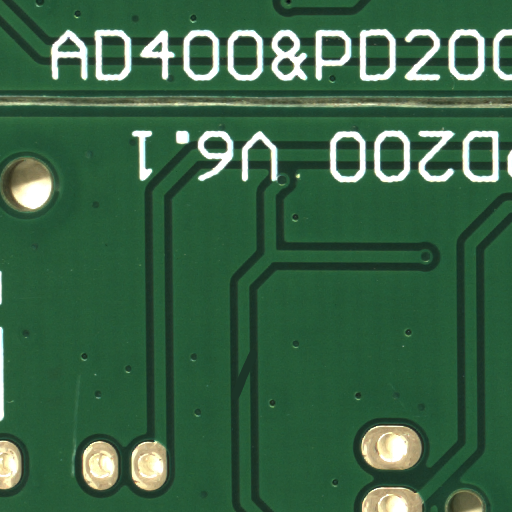Open_circuit: (244, 374, 264, 424)
